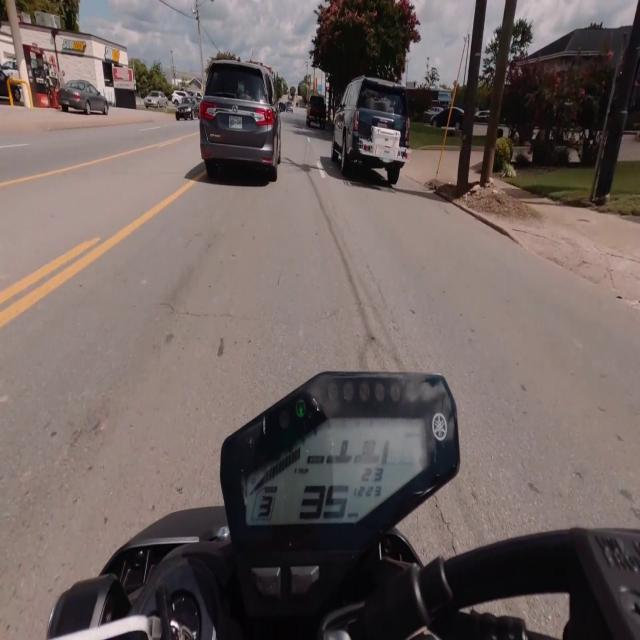car: (200, 60, 280, 181), (332, 76, 409, 184), (58, 80, 109, 114), (306, 96, 326, 129), (176, 96, 198, 120), (144, 91, 168, 108), (171, 90, 188, 106), (286, 102, 293, 113)
motorcycle: (47, 373, 639, 639)
